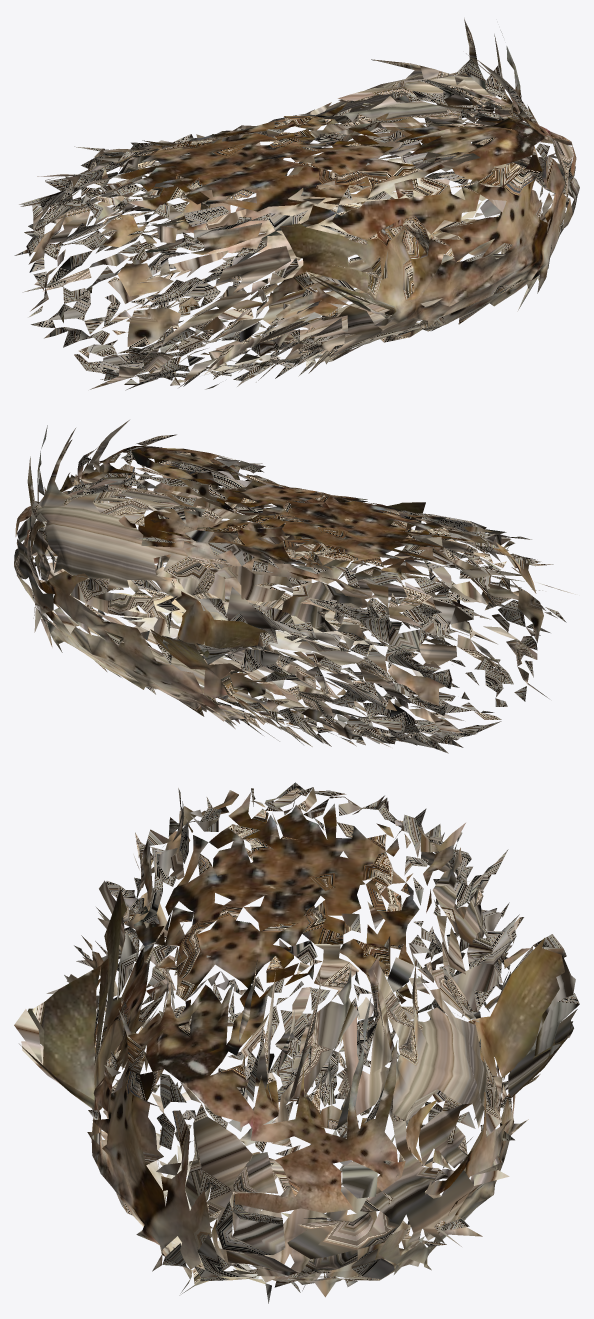
The model's file is pufferballoon_a.glb.
The picture shows the model from 3 angles, top to bottom: view 1: azimuth 30°, elevation 25°; view 2: azimuth 150°, elevation 25°; view 3: azimuth 270°, elevation 25°; orthographic projection. The views are drawn at different scales.
Visible parts, largest first — view 1: pufferballoon_a; view 2: pufferballoon_a; view 3: pufferballoon_a.
Boxes of the visible parts, x1,y1,x2,y2 form: pufferballoon_a: (14, 18, 579, 390); pufferballoon_a: (14, 420, 575, 753); pufferballoon_a: (14, 782, 579, 1303).
Size of the model in its own units: 0.334 by 0.1606 by 0.2223.
1 material, 1 textured.
